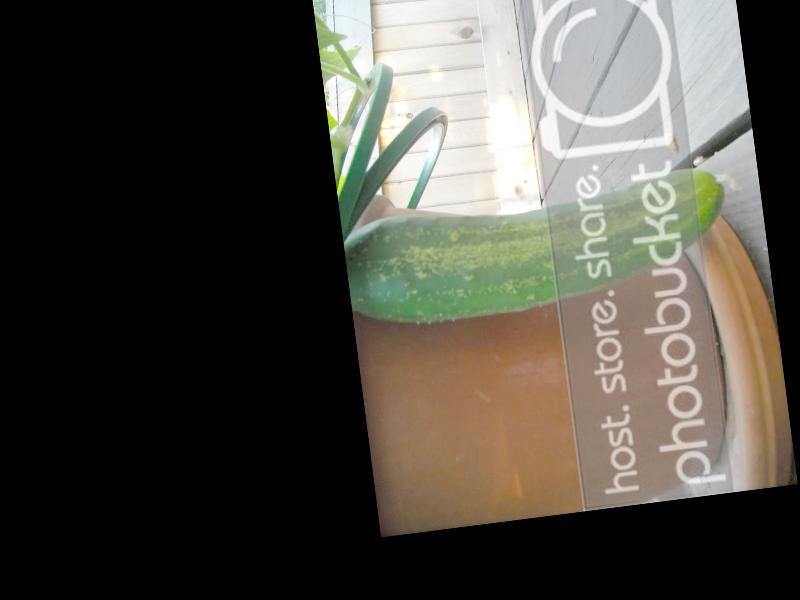Cucumber: (343, 162, 752, 331)
